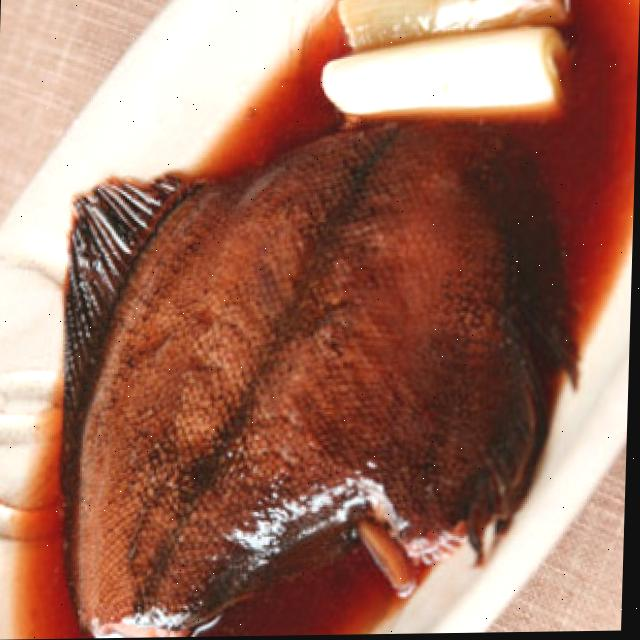熟制海鲜: (28, 92, 605, 639)
